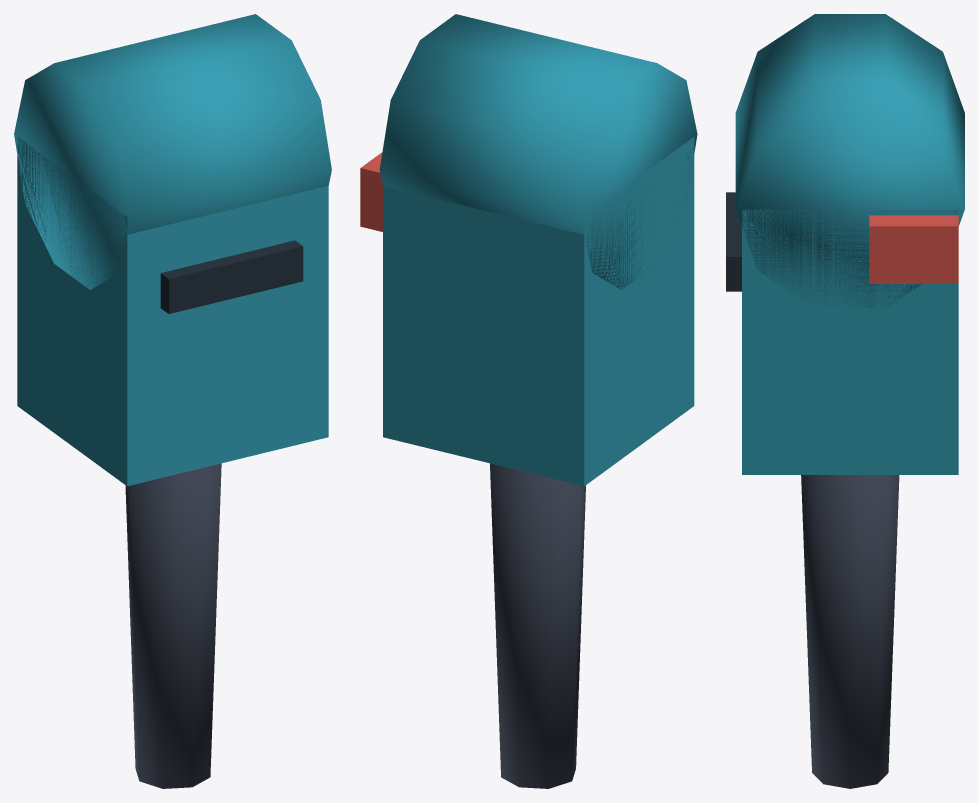
File: xy_town_mailbox.glb
3 views of the same model, side by side, from view 1: azimuth 30°, elevation 25°; view 2: azimuth 150°, elevation 25°; view 3: azimuth 270°, elevation 25° (orthographic).
Parts seen in each view (by area): view 1: xy_town_mailbox; view 2: xy_town_mailbox; view 3: xy_town_mailbox.
Part boxes in pixels (left/top/right/bottom): xy_town_mailbox: left=14, top=14, right=331, bottom=788; xy_town_mailbox: left=360, top=14, right=697, bottom=788; xy_town_mailbox: left=726, top=14, right=964, bottom=788.
Size of the model in its own units: 0.4 by 1.23 by 0.375.
